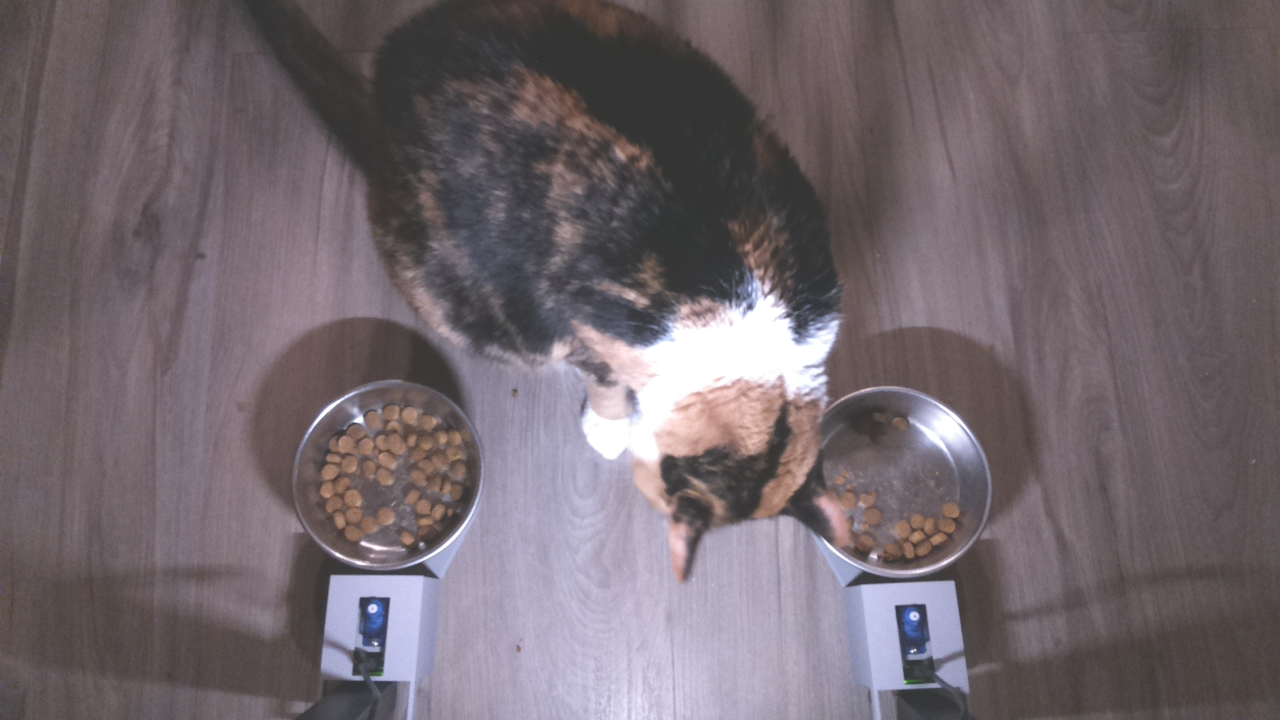bella: (540, 318, 820, 578)
open_bowl: (287, 372, 489, 573), (804, 382, 993, 579)
